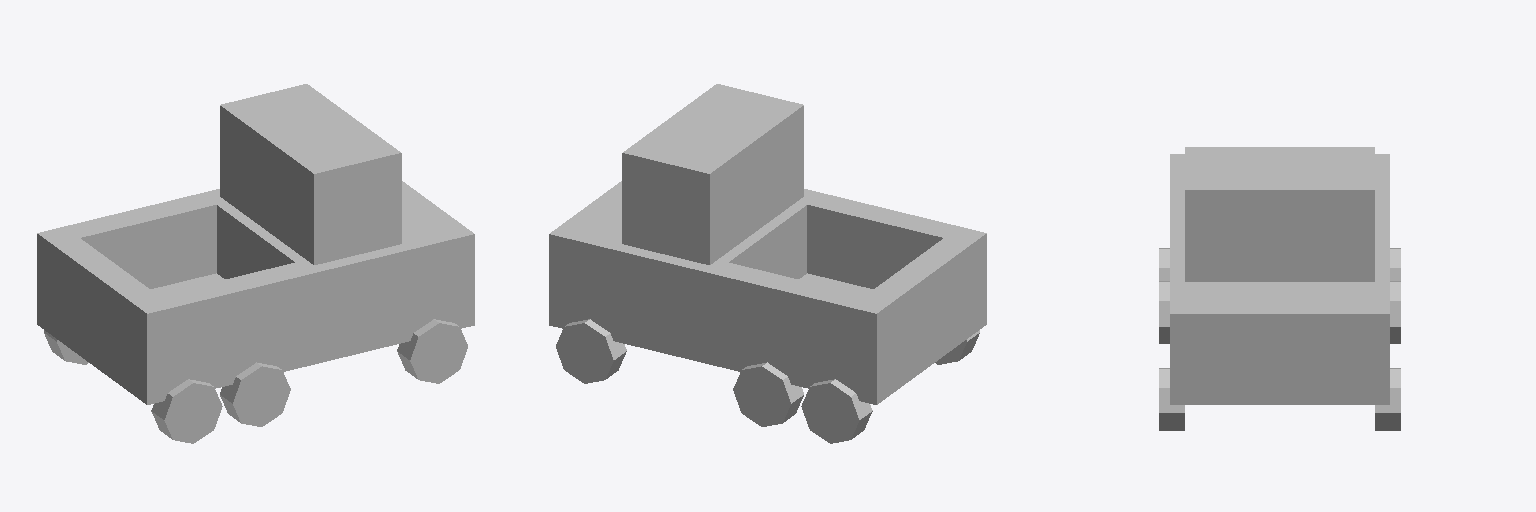
File: car9.obj
3 renders of one model, left to right at view 1: azimuth 30°, elevation 25°; view 2: azimuth 150°, elevation 25°; view 3: azimuth 270°, elevation 25°, orthographic.
Parts seen in each view (by area): view 1: Plane.002_Plane.001, Cylinder.004_Cylinder.009, Cylinder.002_Cylinder.008, Cylinder.003_Cylinder.005; view 2: Plane.002_Plane.001, Cylinder.004_Cylinder.009, Cylinder.002_Cylinder.008, Cylinder.003_Cylinder.005; view 3: Plane.002_Plane.001, Cylinder.003_Cylinder.005, Cylinder.002_Cylinder.008, Cylinder.004_Cylinder.009.
Part boxes in pixels (bbox=[...]): Plane.002_Plane.001: bbox=[37, 84, 474, 404]; Cylinder.004_Cylinder.009: bbox=[44, 330, 222, 443]; Cylinder.002_Cylinder.008: bbox=[220, 362, 290, 426]; Cylinder.003_Cylinder.005: bbox=[397, 319, 467, 383]; Plane.002_Plane.001: bbox=[549, 84, 986, 404]; Cylinder.004_Cylinder.009: bbox=[801, 330, 979, 443]; Cylinder.002_Cylinder.008: bbox=[733, 362, 803, 426]; Cylinder.003_Cylinder.005: bbox=[556, 319, 626, 383]; Plane.002_Plane.001: bbox=[1170, 147, 1389, 404]; Cylinder.003_Cylinder.005: bbox=[1159, 368, 1400, 430]; Cylinder.002_Cylinder.008: bbox=[1159, 281, 1400, 343]; Cylinder.004_Cylinder.009: bbox=[1159, 248, 1400, 280].
Bounding box in the file's own units: 3 × 1.99 × 1.92.